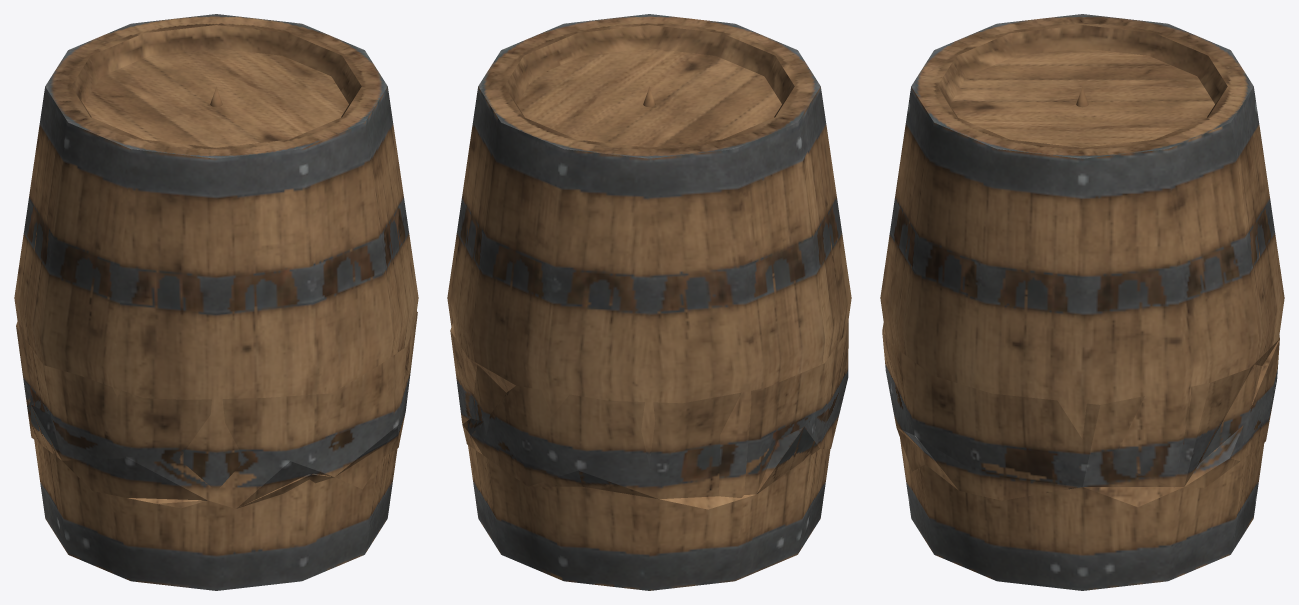
File: barrel_lod0.glb
The picture shows the model from 3 angles, left to right: view 1: azimuth 30°, elevation 25°; view 2: azimuth 150°, elevation 25°; view 3: azimuth 270°, elevation 25°; orthographic projection.
Visible parts, largest first — view 1: low; view 2: low; view 3: low.
Boxes of the visible parts, x1=… form: low: x1=14, y1=14, x2=418, y2=590; low: x1=447, y1=14, x2=851, y2=590; low: x1=880, y1=14, x2=1284, y2=590.
Size of the model in its own units: 0.9025 by 1.06 by 0.9025.
1 material, 1 textured.
